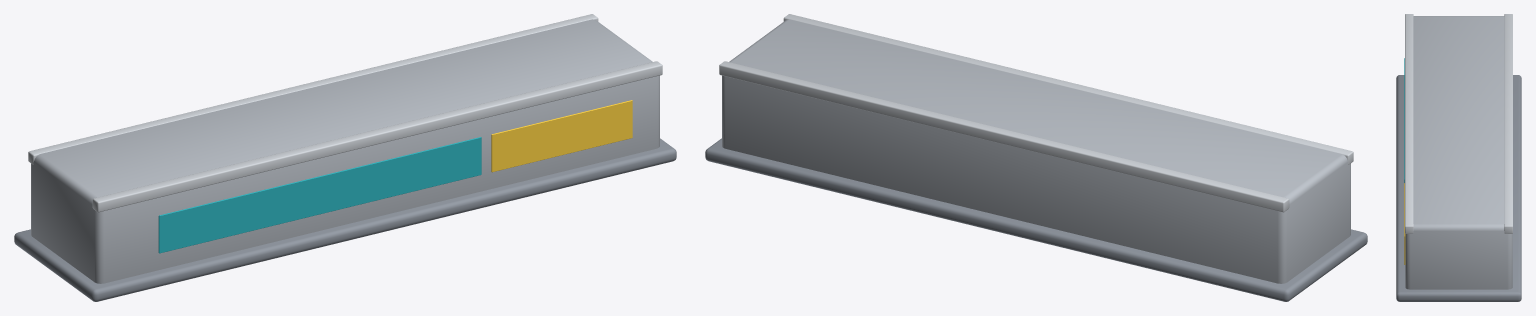
Rendered from skate_banco.glb.
3 views of the same model, side by side, from view 1: azimuth 30°, elevation 25°; view 2: azimuth 150°, elevation 25°; view 3: azimuth 270°, elevation 25° (orthographic). The views are drawn at different scales.
Visible parts, largest first — view 1: skate_banco; view 2: skate_banco; view 3: skate_banco.
Part boxes in pixels (bbox=[...]): skate_banco: bbox=[14, 14, 676, 301]; skate_banco: bbox=[705, 14, 1367, 301]; skate_banco: bbox=[1396, 14, 1521, 301].
Size of the model in its own units: 2.9 by 0.452 by 0.7.
Materials: 1 (1 with a texture image).
